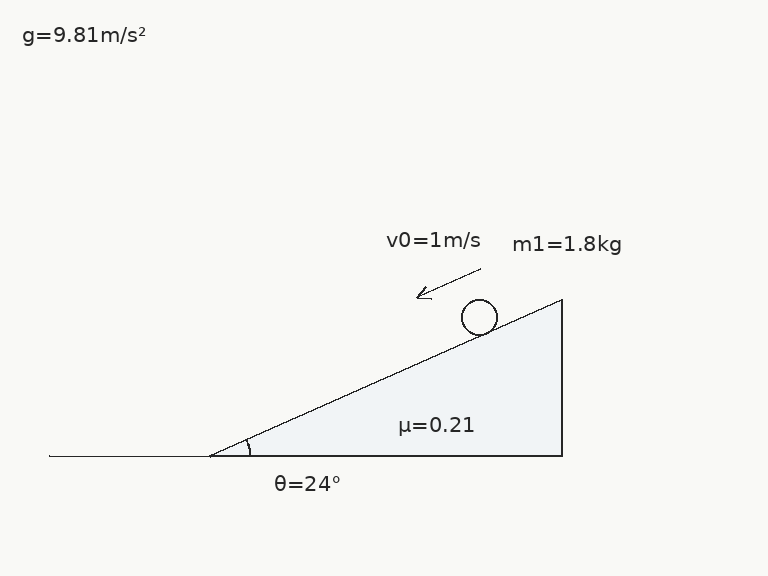ball: (459, 297, 499, 337)
ramp: (208, 297, 564, 458)
